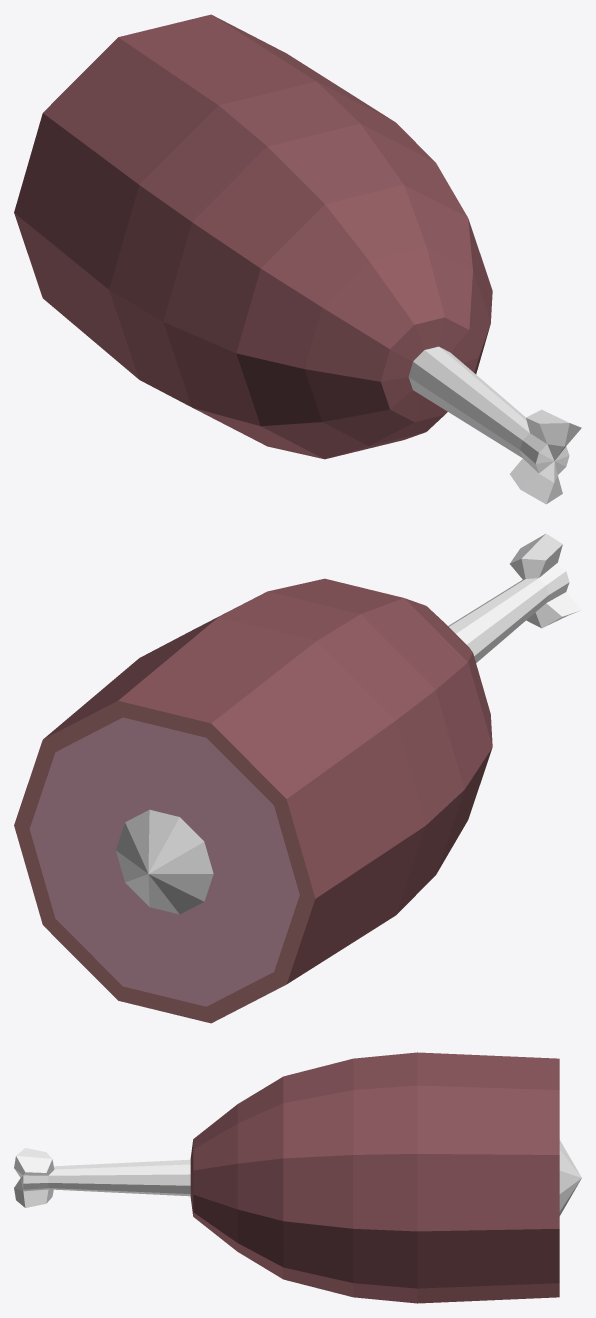
Rendered from Meat1.fbx.
3 views of the same model, one above another, from view 1: azimuth 30°, elevation 25°; view 2: azimuth 150°, elevation 25°; view 3: azimuth 270°, elevation 25° (orthographic). The views are drawn at different scales.
Parts seen in each view (by area): view 1: Meat; view 2: Meat; view 3: Meat.
Boxes of the visible parts, <box> form: Meat: <box>14,14,581,504</box>; Meat: <box>14,533,581,1023</box>; Meat: <box>14,1052,581,1303</box>.
Bounding box in the file's own units: 17.22 × 16.38 × 38.68.
